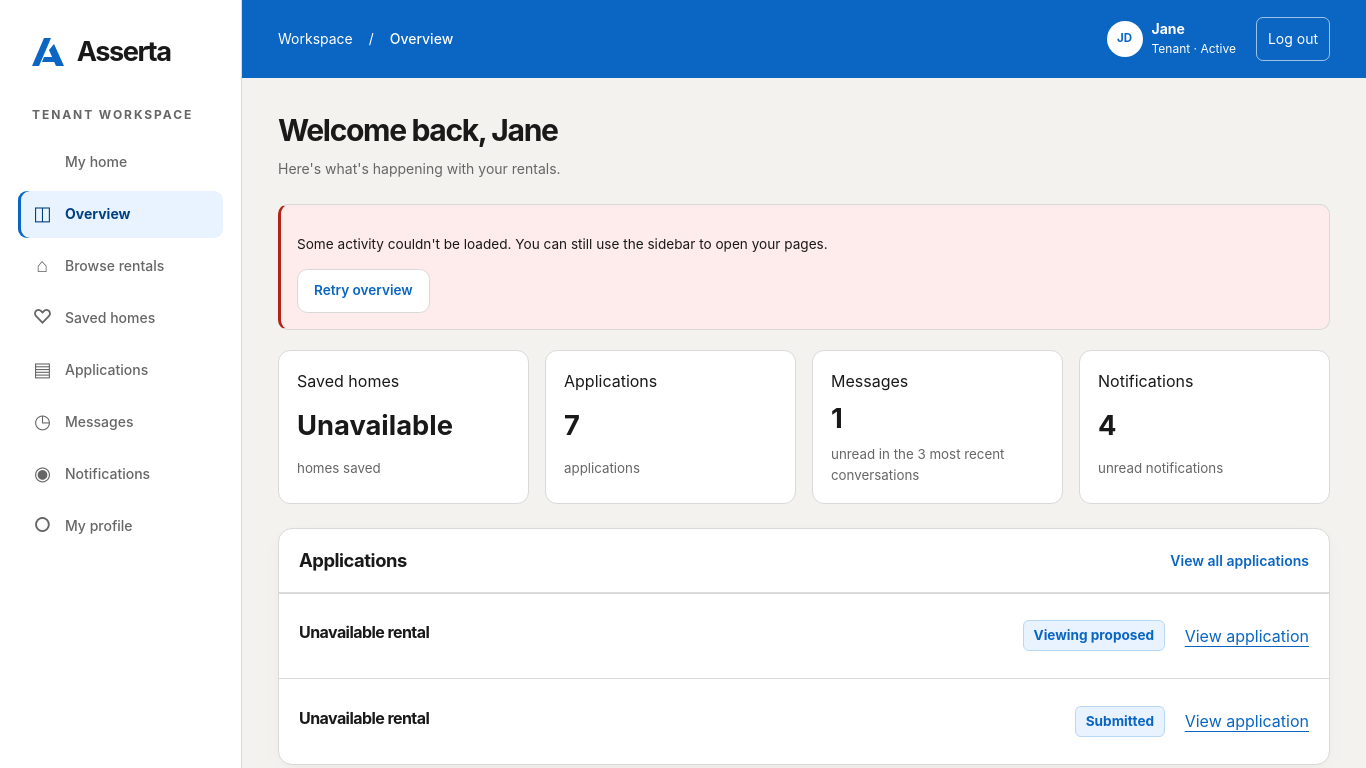
Test: preserves successful activity during partial failure and supports retry
Expected: the message is shown, [278, 204, 1330, 330]
Expected: the link "Saved homes Unavailable homes saved" is shown, [278, 350, 529, 504]
Click the button "Retry overview" at (363, 291), box [297, 269, 430, 313]
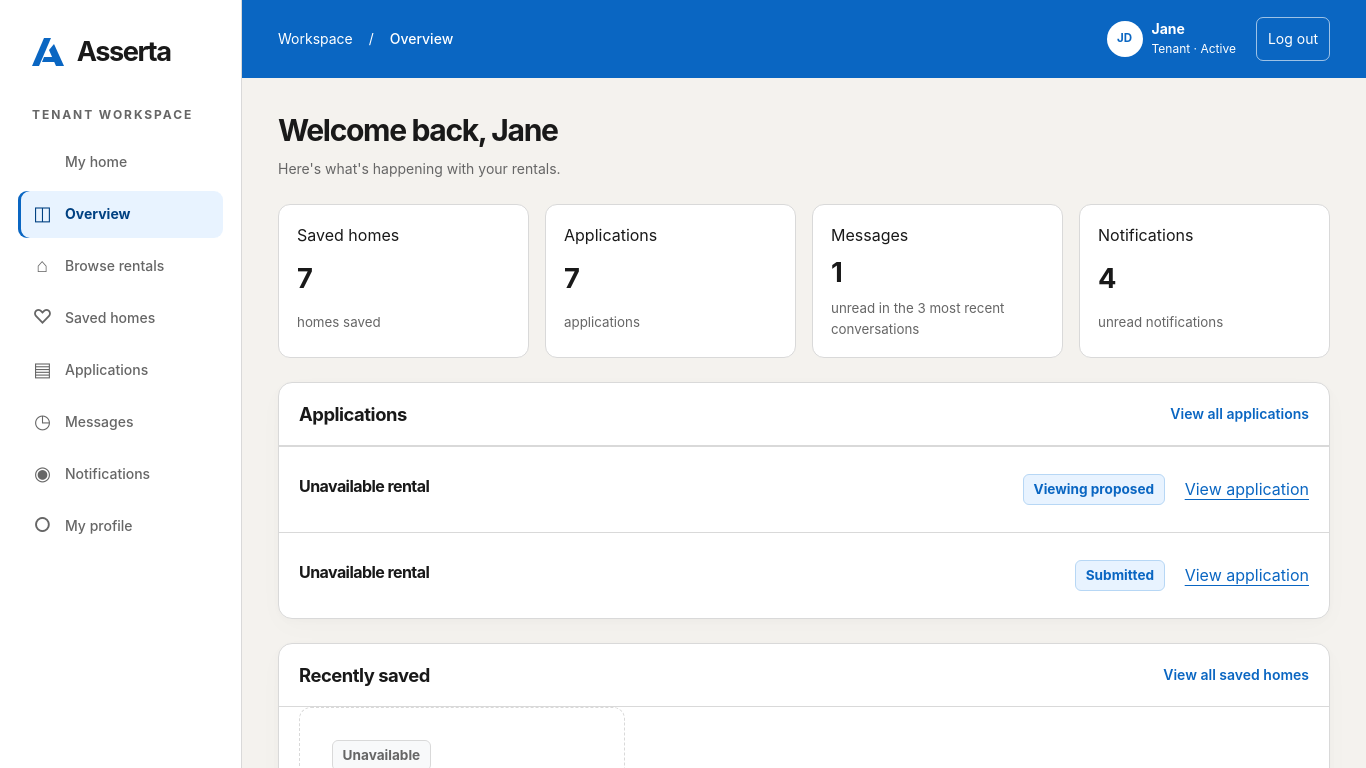
Expected: the link "Saved homes 7 homes saved" is shown, [278, 204, 529, 358]
